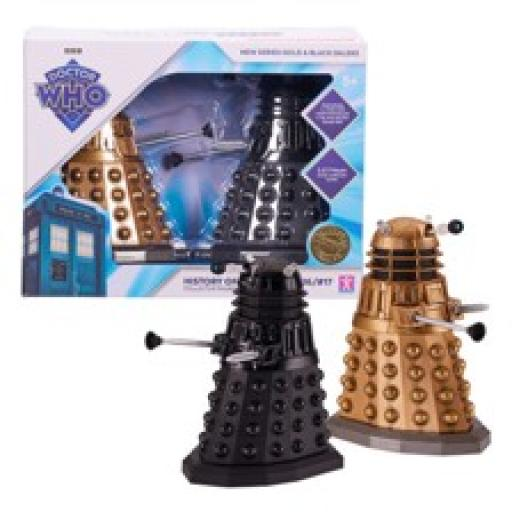dalek: (134, 252, 358, 481), (335, 205, 499, 461), (42, 72, 180, 270), (189, 86, 328, 266)
